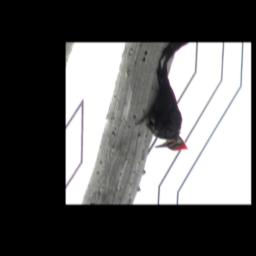Woodpecker: (129, 59, 211, 159)
